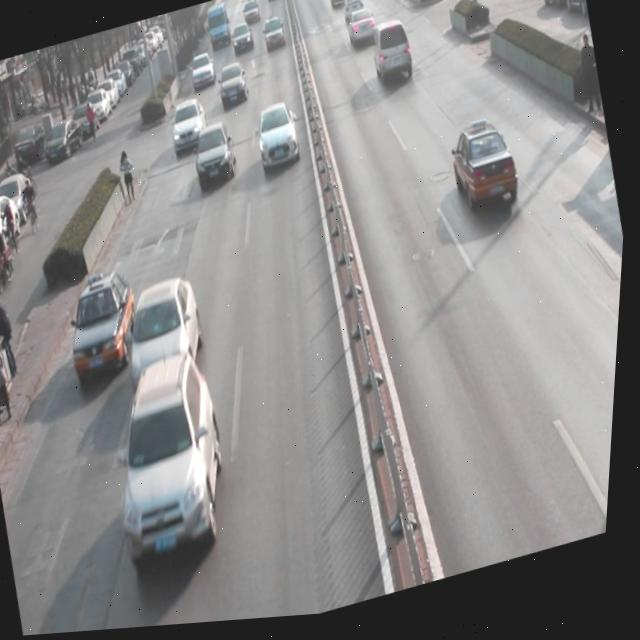car: (101, 356, 250, 574), (122, 275, 219, 401), (62, 270, 153, 383), (446, 115, 529, 229), (252, 101, 308, 181), (190, 123, 244, 195), (167, 98, 215, 160), (214, 62, 254, 114), (344, 9, 380, 54), (187, 52, 219, 94), (230, 23, 258, 59), (260, 20, 288, 55), (343, 0, 368, 27)
truck: (367, 18, 421, 94), (203, 5, 236, 56)
